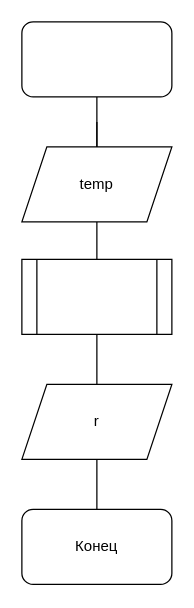
This 194x608 diagram has some shape labels left out. The box of each missing label's shape, as (x1, y1, x2, y2) in pixels:
r = len(list(filter(lambda x: x[-1] == 'f', temp))): (21, 258, 172, 334)
Начало: (21, 21, 172, 97)
